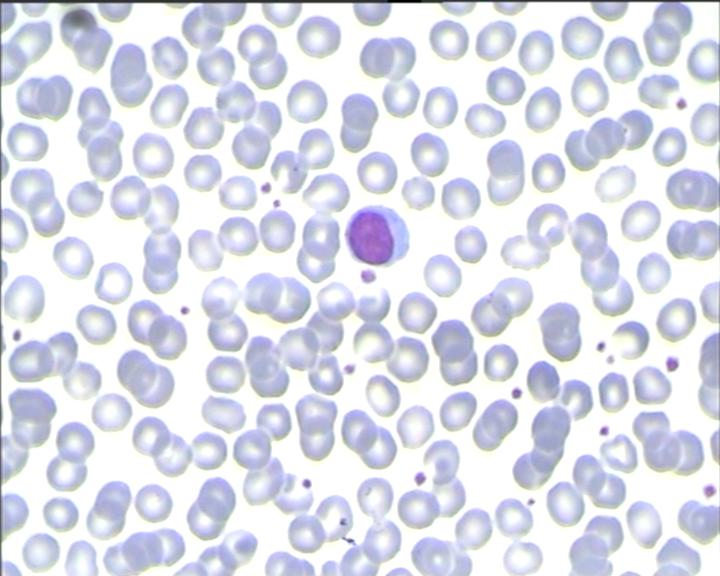lymp: (341, 200, 409, 274)
